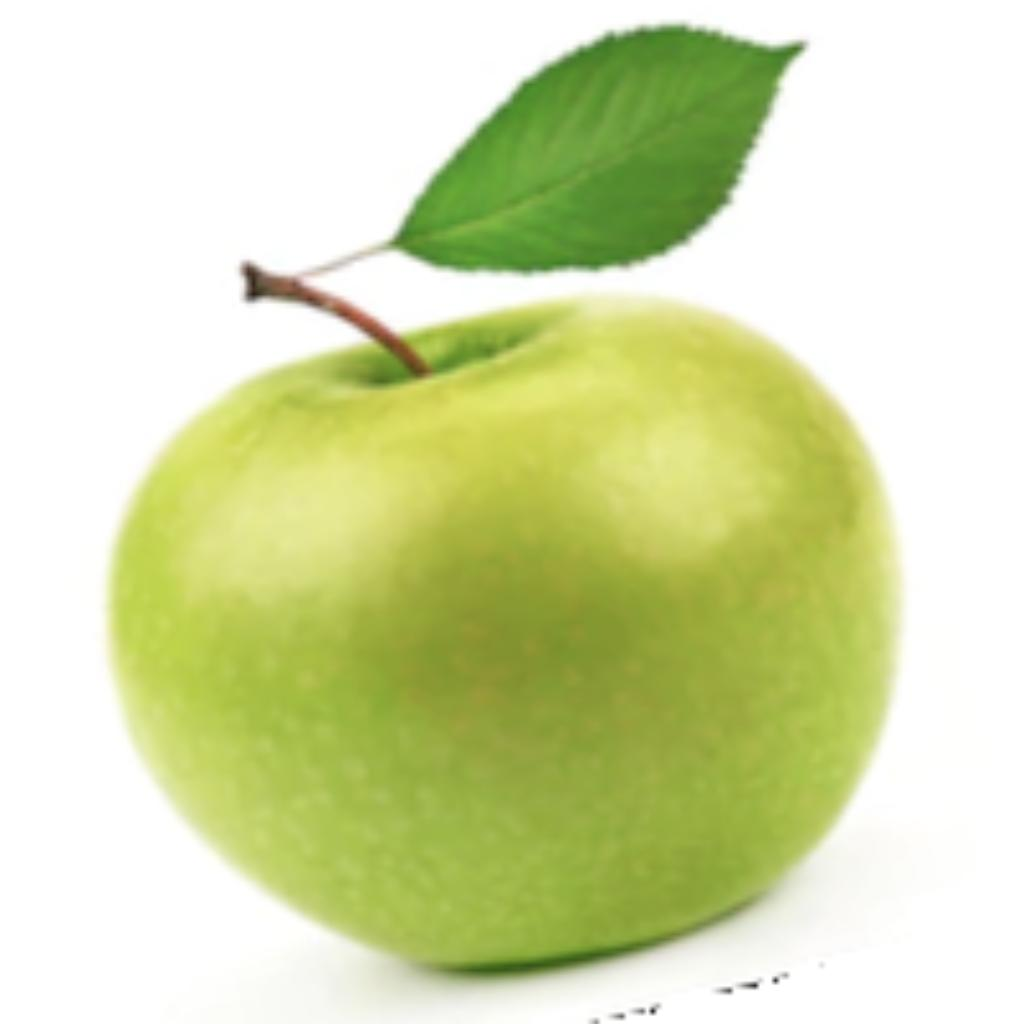apple: (97, 15, 906, 1014)
